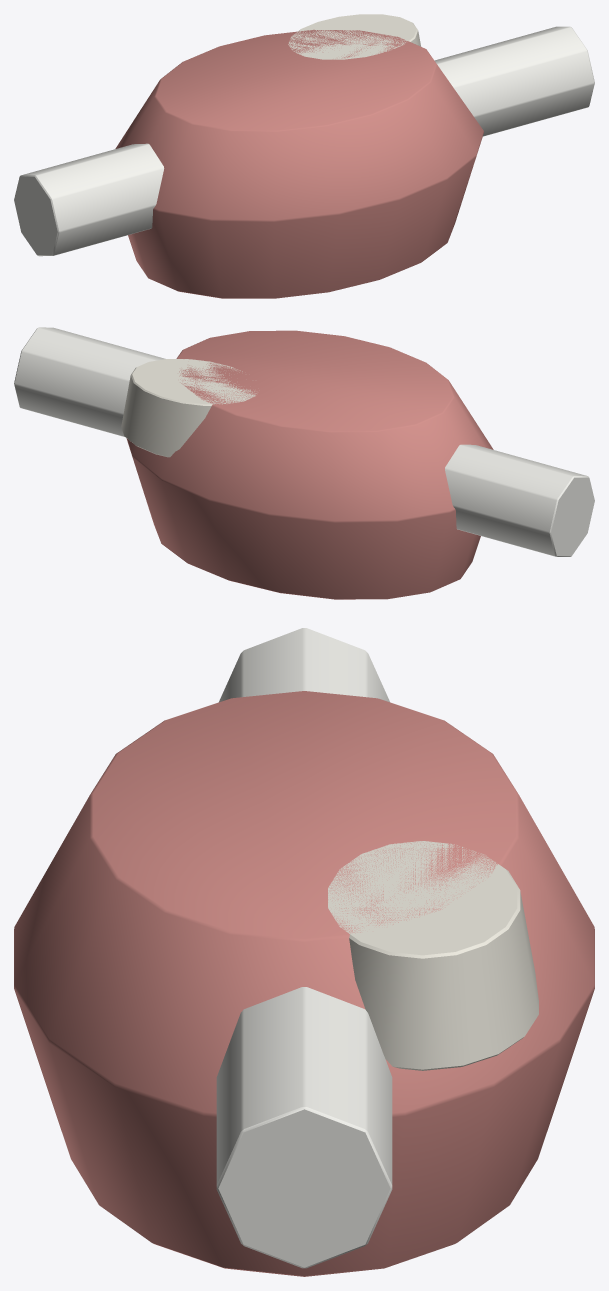
File: IT_meat_raw.fbx
The picture shows the model from 3 angles, top to bottom: view 1: azimuth 30°, elevation 25°; view 2: azimuth 150°, elevation 25°; view 3: azimuth 270°, elevation 25°; orthographic projection. The views are drawn at different scales.
Parts seen in each view (by area): view 1: IT_meat_raw; view 2: IT_meat_raw; view 3: IT_meat_raw.
Boxes of the visible parts, <box> form: IT_meat_raw: <box>14,14,594,298</box>; IT_meat_raw: <box>14,327,594,599</box>; IT_meat_raw: <box>14,628,594,1276</box>.
Size of the model in its own units: 0.6228 by 0.18 by 0.2948.
